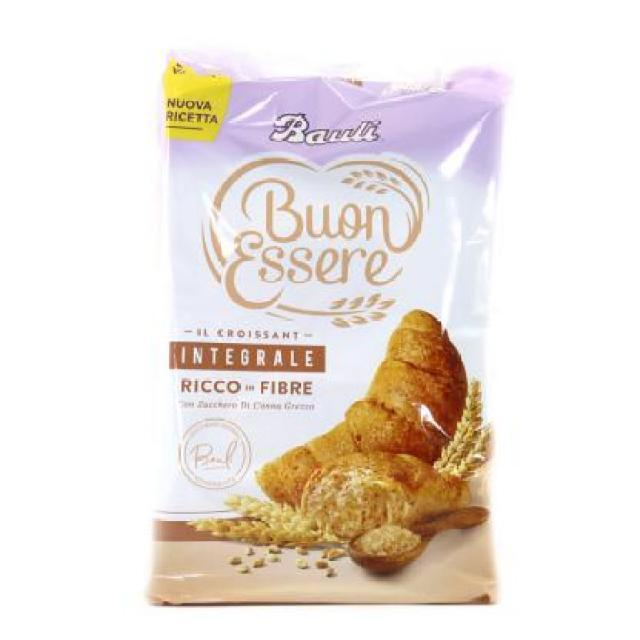Merendine: (142, 56, 506, 612)
